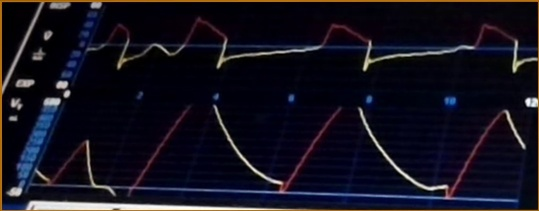Ineffective_effort Flow: (88, 14, 539, 79)
Ineffective_effort Volume: (34, 104, 525, 201)
